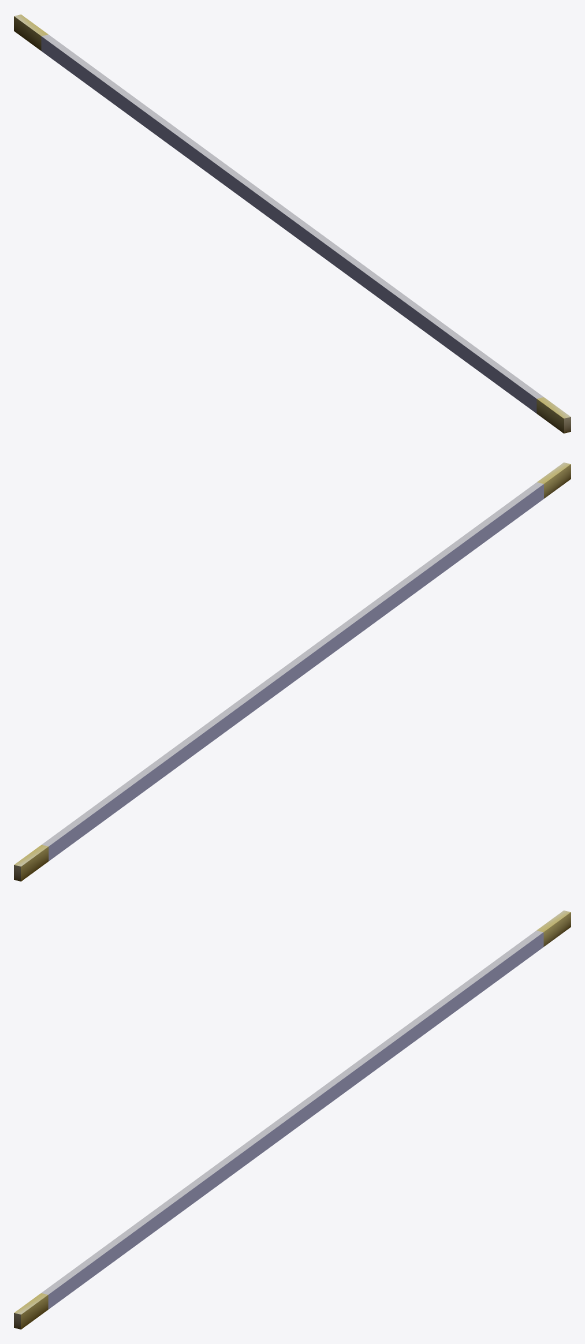
File: Grindrail02.gltf
3 views of the same model, one above another, from view 1: azimuth 30°, elevation 25°; view 2: azimuth 150°, elevation 25°; view 3: azimuth 330°, elevation 25° (orthographic).
Parts seen in each view (by area): view 1: Grindrail02Mesh; view 2: Grindrail02Mesh; view 3: Grindrail02Mesh.
Part boxes in pixels (<box>): Grindrail02Mesh: <box>14,14,570,433</box>; Grindrail02Mesh: <box>14,462,570,881</box>; Grindrail02Mesh: <box>14,910,570,1329</box>.
Bounding box in the file's own units: 0.15 × 0.3001 × 20.
